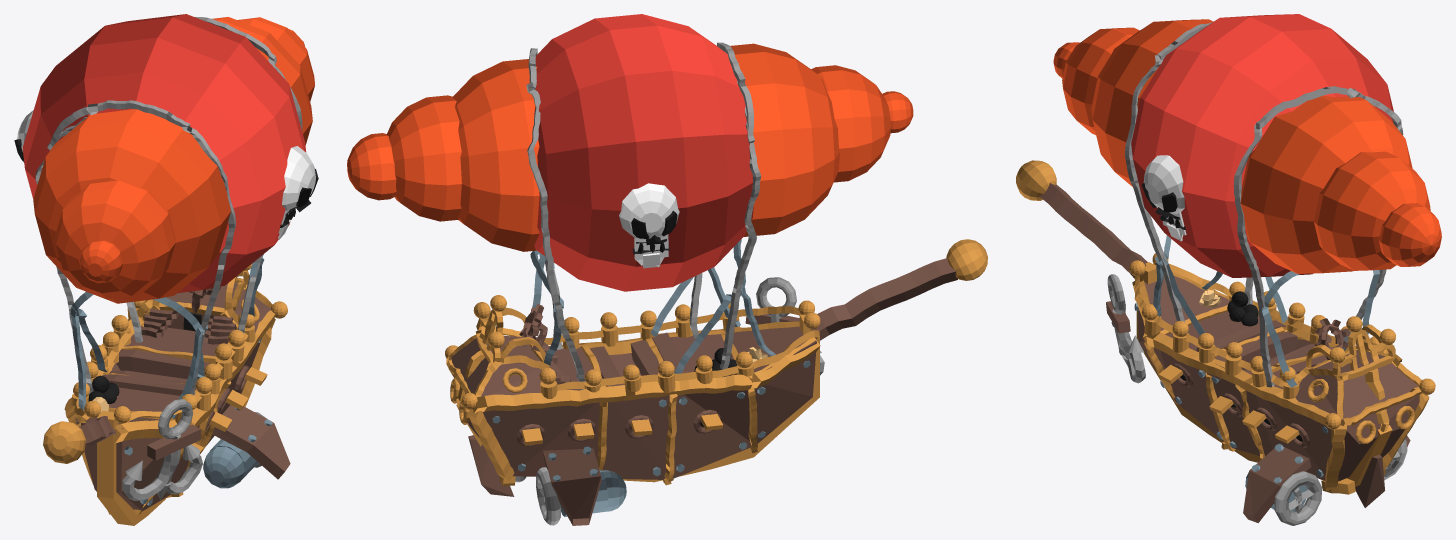
File: pirateShipFlyingModel_alone.obj
The picture shows the model from 3 angles, left to right: view 1: azimuth 30°, elevation 25°; view 2: azimuth 150°, elevation 25°; view 3: azimuth 270°, elevation 25°; orthographic projection. The views are drawn at different scales.
Visible parts, largest first — view 1: pirateShipFlying; view 2: pirateShipFlying; view 3: pirateShipFlying.
Boxes of the visible parts, left/top/right/bottom form: pirateShipFlying: left=14, top=14, right=318, bottom=525; pirateShipFlying: left=347, top=14, right=987, bottom=525; pirateShipFlying: left=1016, top=14, right=1441, bottom=525.
Bounding box in the file's own units: 1.91 × 1.91 × 1.63.
